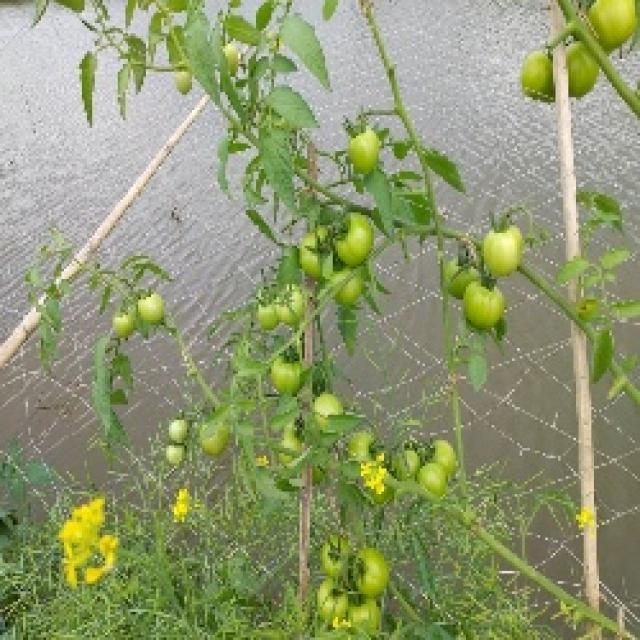tomato: (460, 276, 512, 340), (579, 1, 640, 54), (477, 219, 530, 275), (349, 549, 394, 600), (334, 212, 376, 265), (266, 345, 311, 393), (564, 44, 600, 98), (426, 435, 469, 480), (523, 53, 558, 103), (271, 285, 310, 327), (446, 256, 479, 300), (351, 130, 384, 172), (303, 225, 333, 271), (349, 430, 387, 466), (324, 529, 357, 569), (315, 573, 347, 613), (139, 295, 171, 328), (396, 440, 427, 472), (310, 386, 349, 411), (283, 420, 310, 454), (423, 456, 448, 488), (341, 280, 369, 304), (256, 302, 284, 326), (173, 72, 194, 100), (167, 415, 193, 437), (226, 46, 245, 74), (161, 447, 183, 470), (115, 311, 134, 334), (354, 601, 381, 616)
